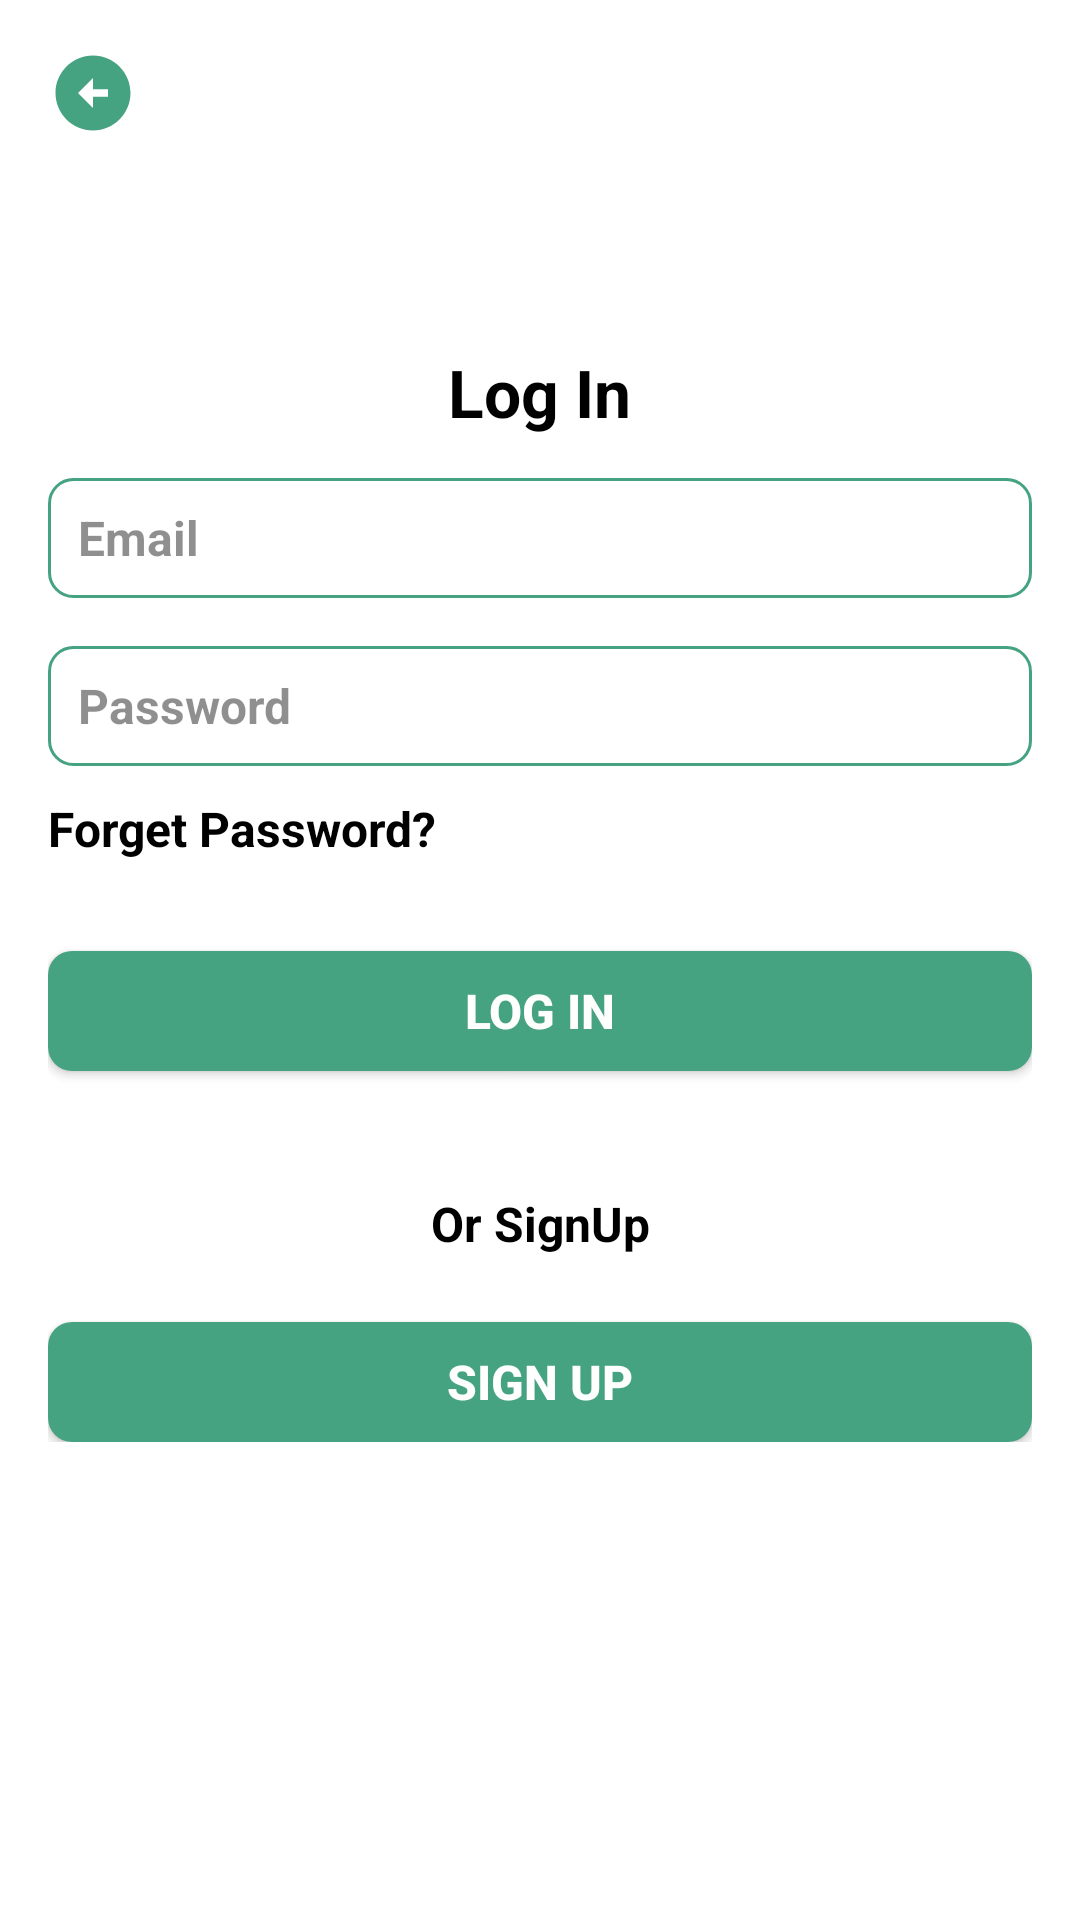

Where to tap for icons on this 1080px x 1920px app screen, as [x,y]:
back: [93,93]
